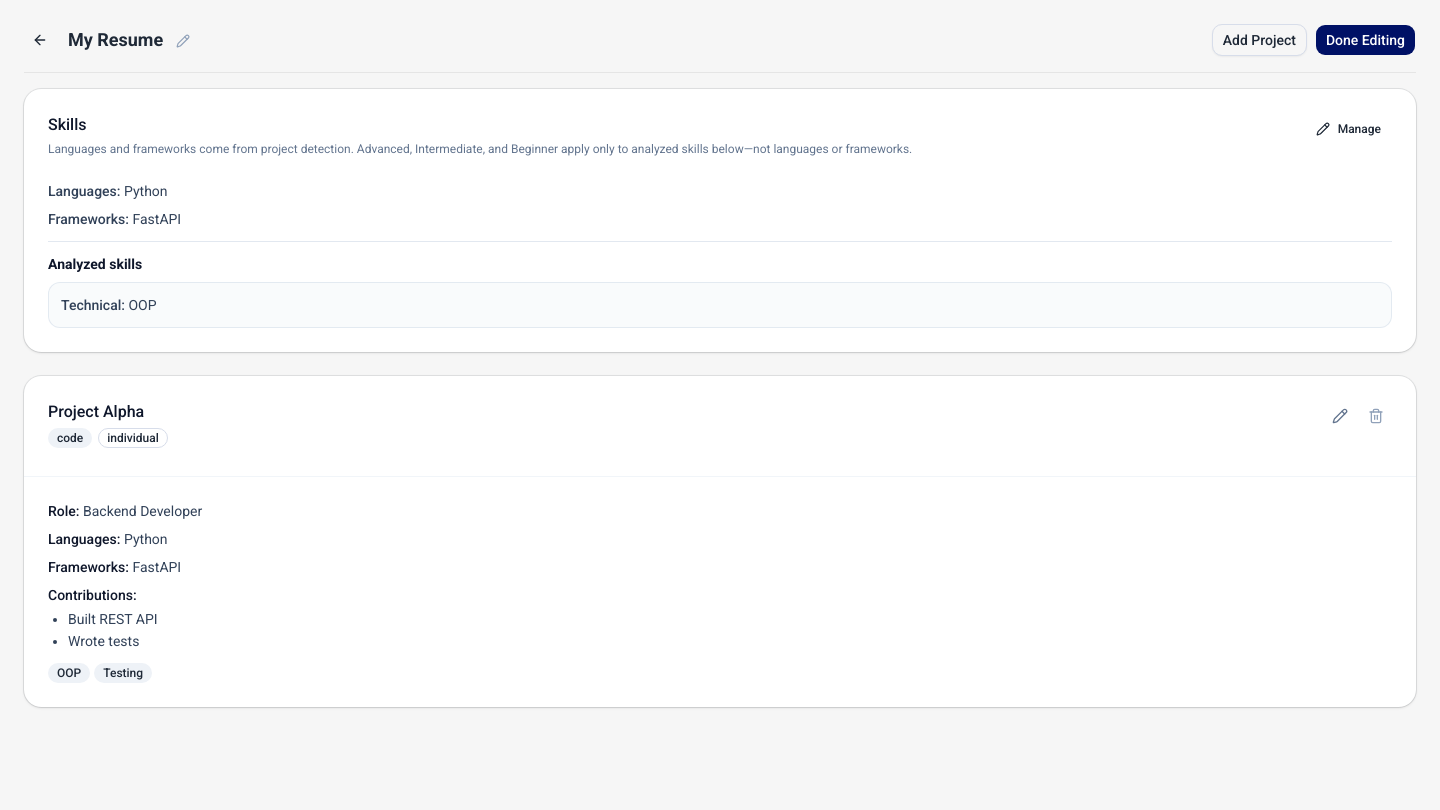
Test: ResumeDetail › editing project fields › shows edit form when project pencil is clicked
Check: the text "Project Alpha" is shown, box [48,402,144,421]
Click the button named "Edit project" at (1340, 416), box [1324,400,1356,432]
(page scrolled)
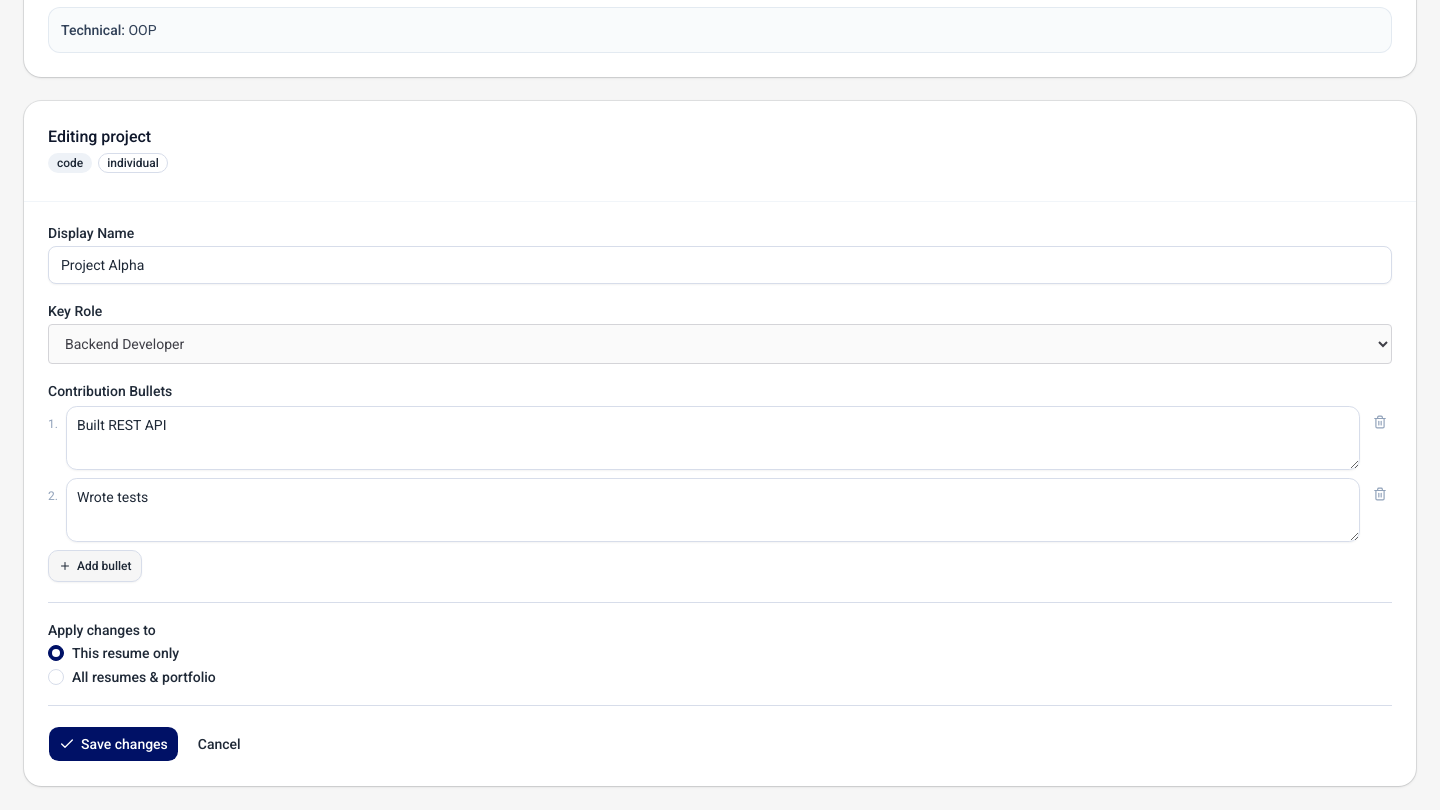
Check: the field labelled "Display Name" is shown, box [48,246,1392,284]
Check: the dropdown labelled "Key Role" is shown, box [48,324,1392,364]
Check: the button "Save changes" is shown, box [48,726,179,762]
